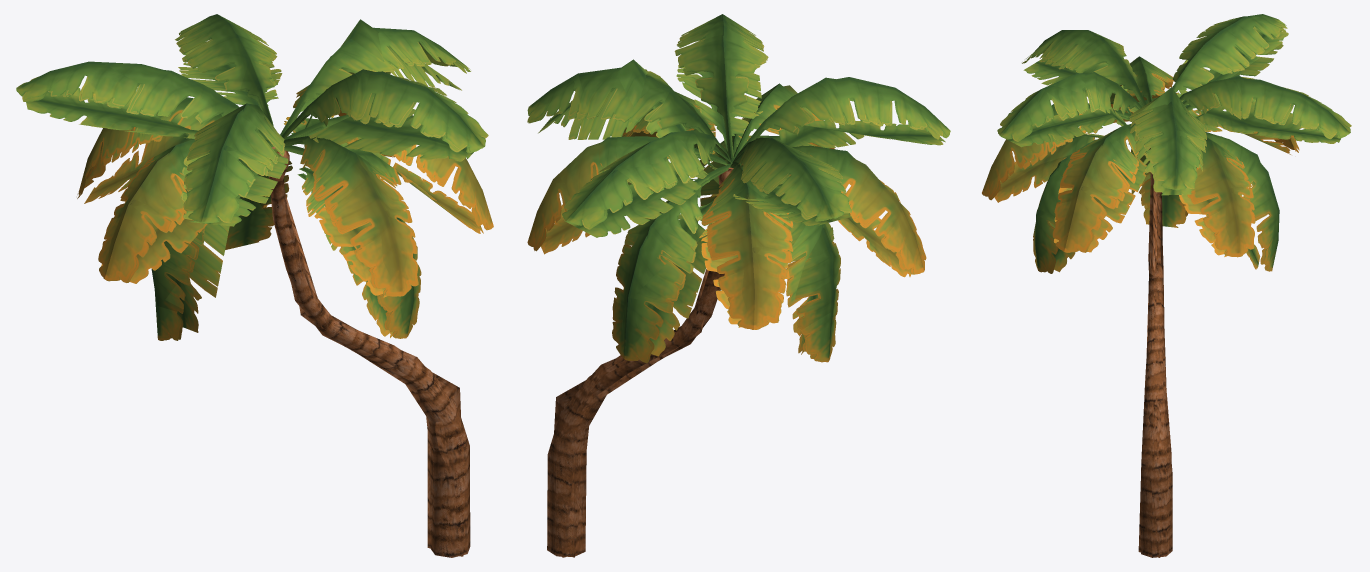
Rendered from Palmera.fbx.
3 views of the same model, side by side, from view 1: azimuth 30°, elevation 25°; view 2: azimuth 150°, elevation 25°; view 3: azimuth 270°, elevation 25° (orthographic). The views are drawn at different scales.
Visible parts, largest first — view 1: Palmera 1, Palmera 1.2, Palmera 1.1; view 2: Palmera 1, Palmera 1.2, Palmera 1.1; view 3: Palmera 1, Palmera 1.2, Palmera 1.1.
Boxes of the visible parts, x1=… form: Palmera 1: x1=16, y1=14, x2=493, y2=557; Palmera 1.2: x1=16, y1=15, x2=493, y2=556; Palmera 1.1: x1=26, y1=19, x2=483, y2=552; Palmera 1: x1=527, y1=14, x2=950, y2=556; Palmera 1.2: x1=527, y1=15, x2=950, y2=557; Palmera 1.1: x1=538, y1=59, x2=945, y2=557; Palmera 1: x1=982, y1=14, x2=1349, y2=557; Palmera 1.2: x1=982, y1=16, x2=1351, y2=557; Palmera 1.1: x1=994, y1=26, x2=1340, y2=464.
Bounding box in the file's own units: 303 × 391 × 307.
12 materials, 12 textured.
